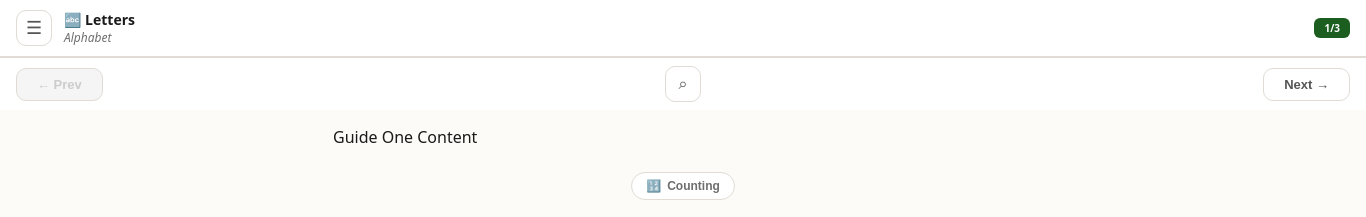
Test: GuideShell › navigates forward with the Next button
Click the button with aria-label "Next guide" at (1307, 84), box [1263,68,1350,100]
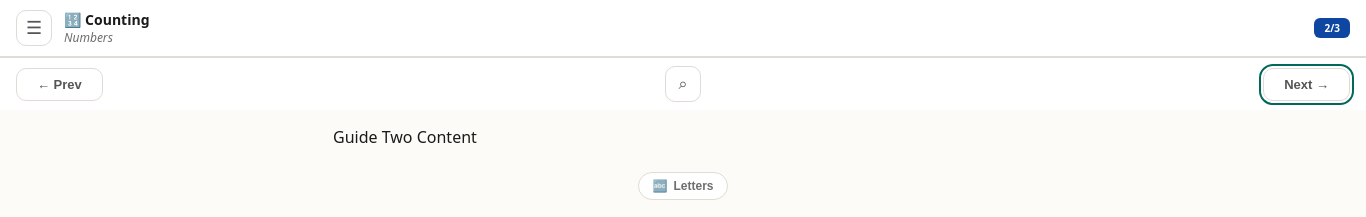
Now the text "Guide Two Content" is shown, box [333,126,477,148]
